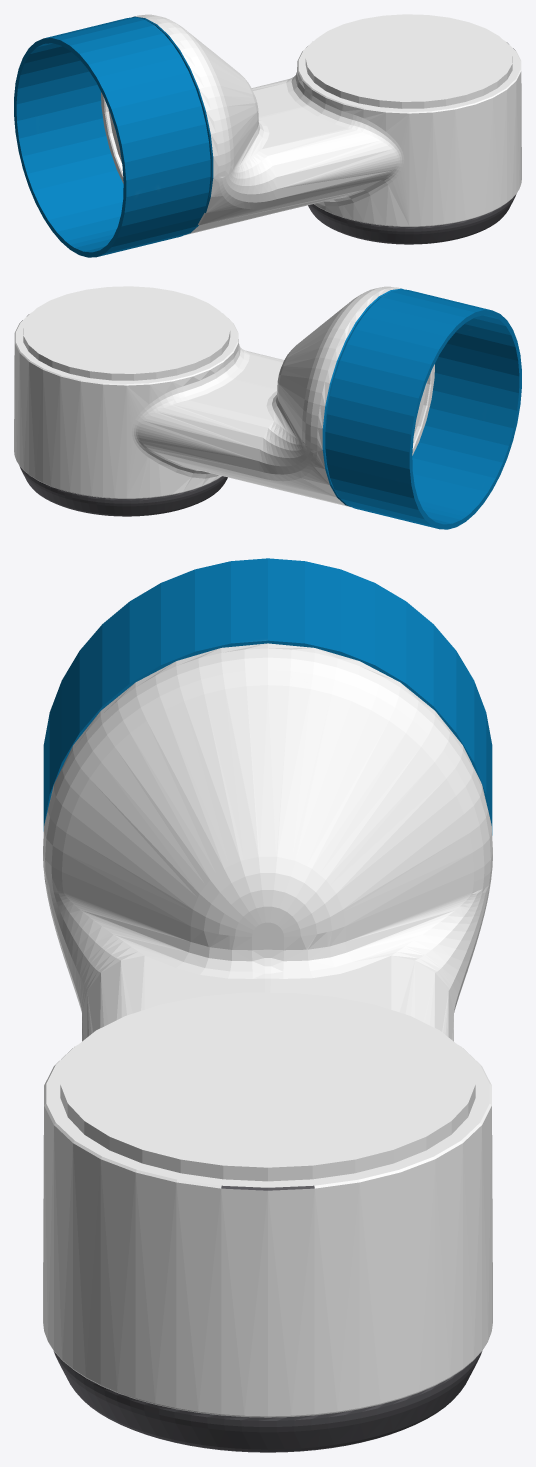
The model's file is upperarm_roll_link.obj.
3 renders of one model, top to bottom at view 1: azimuth 30°, elevation 25°; view 2: azimuth 150°, elevation 25°; view 3: azimuth 270°, elevation 25°, orthographic. The views are drawn at different scales.
Visible parts, largest first — view 1: obj1; view 2: obj1; view 3: obj1.
Boxes of the visible parts, bbox=[...] form: obj1: bbox=[14, 14, 521, 257]; obj1: bbox=[14, 286, 521, 529]; obj1: bbox=[43, 558, 492, 1452].
Bounding box in the file's own units: 0.233 × 0.1225 × 0.104.
